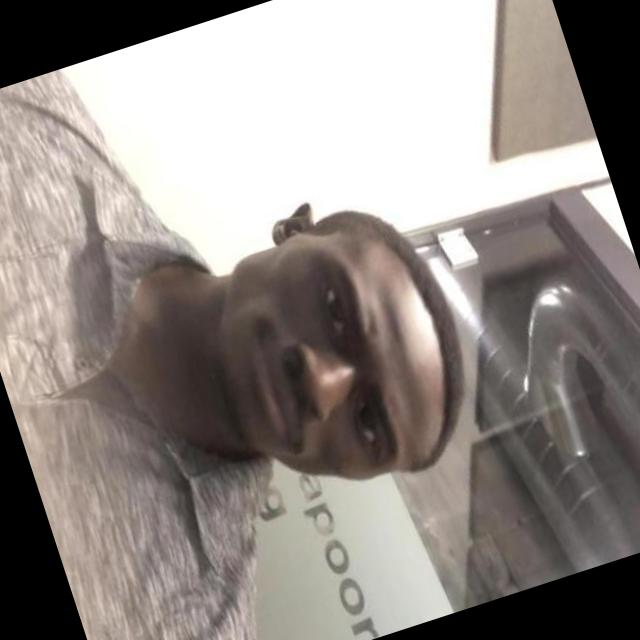bareface: (191, 180, 477, 520)
